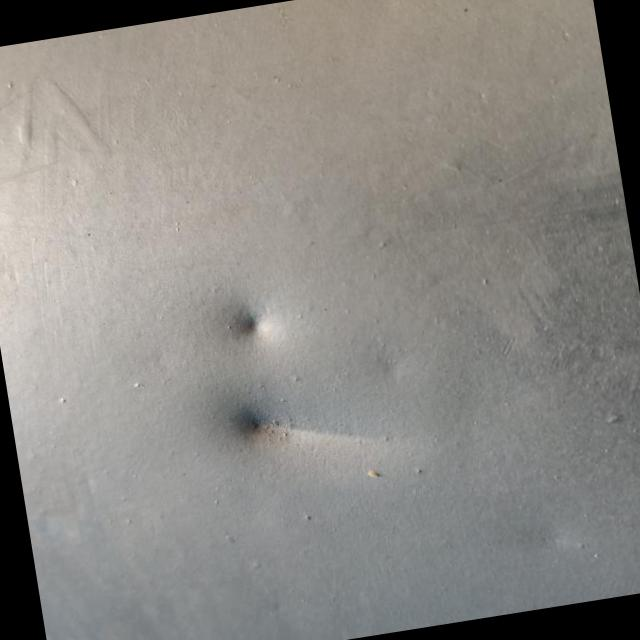Dent: (211, 376, 445, 485), (192, 270, 312, 391)
